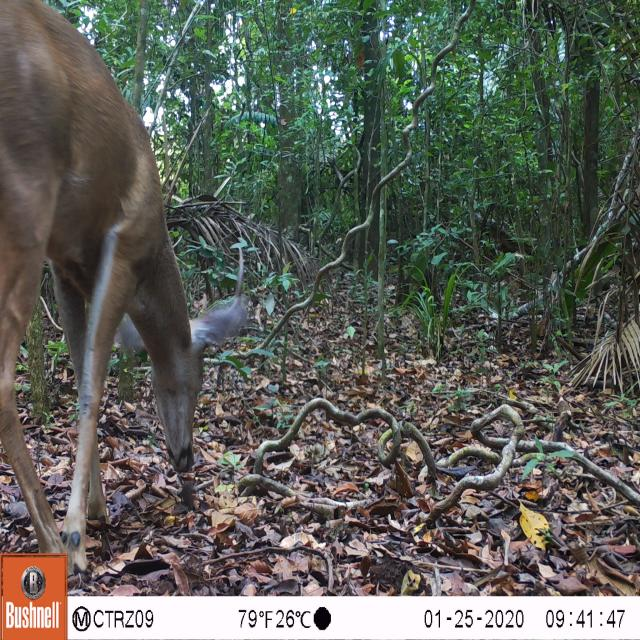White-tailed Deer: (0, 0, 250, 572)
